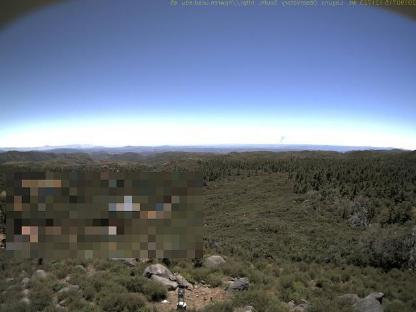smoke: (278, 133, 290, 145)
